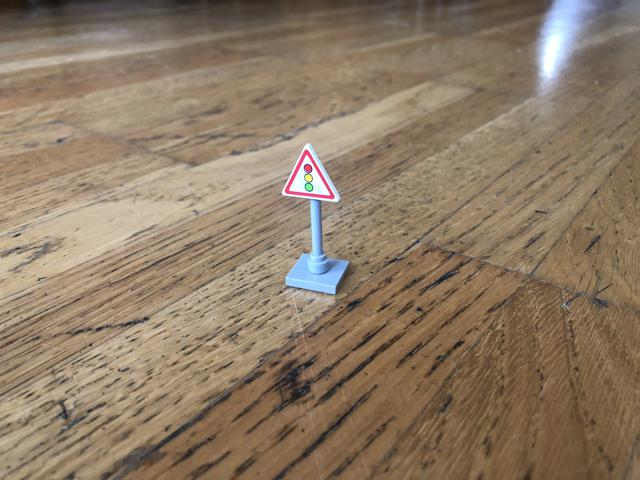lichtzeichenanlage: (282, 142, 340, 202)
